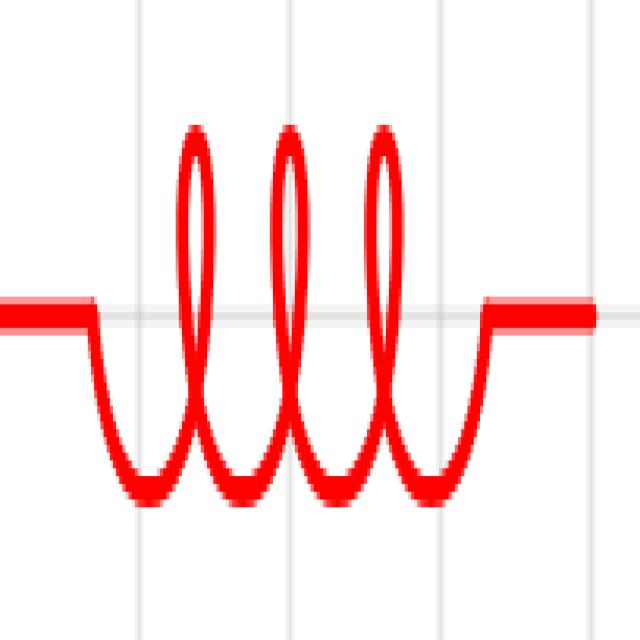inductor: (9, 36, 607, 586)
